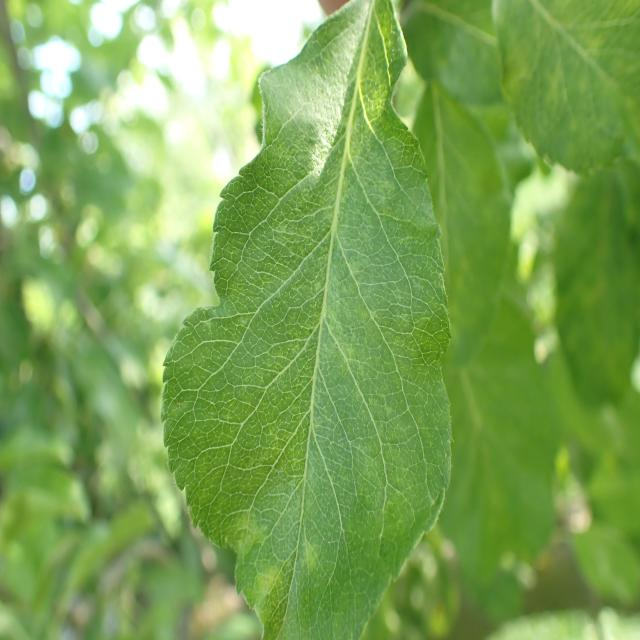scab: (248, 49, 410, 621)
